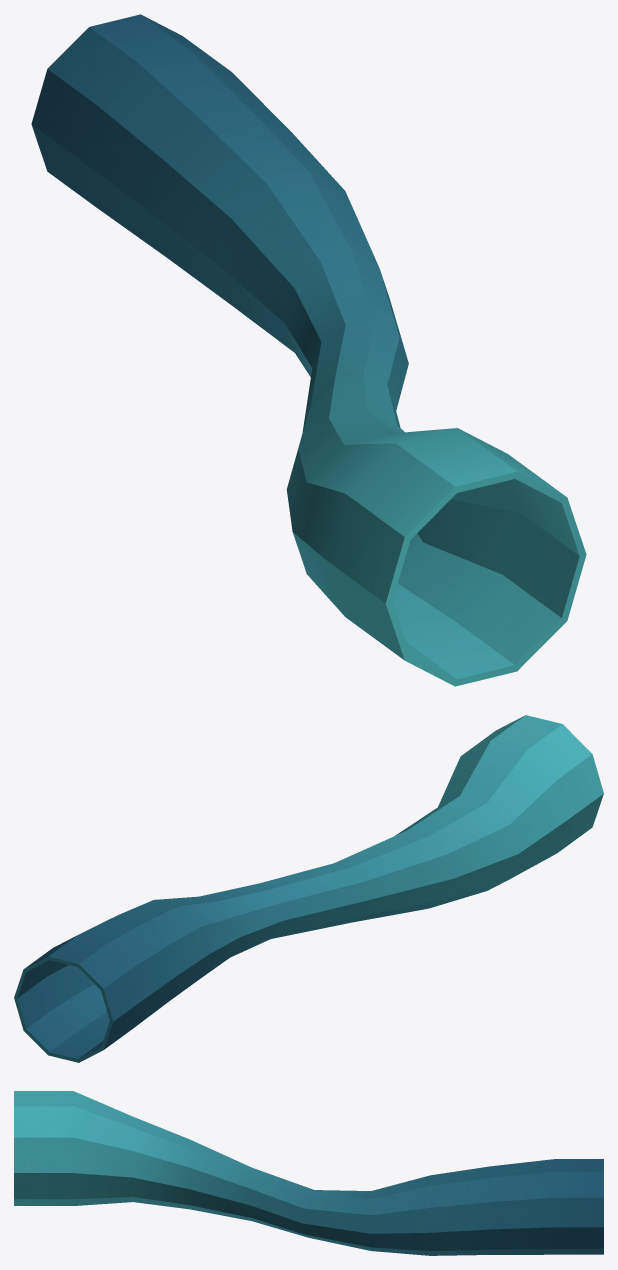
Rendered from pipe1.fbx.
The picture shows the model from 3 angles, top to bottom: view 1: azimuth 30°, elevation 25°; view 2: azimuth 150°, elevation 25°; view 3: azimuth 270°, elevation 25°; orthographic projection. The views are drawn at different scales.
Visible parts, largest first — view 1: pPipe1; view 2: pPipe1; view 3: pPipe1.
Boxes of the visible parts, x1,y1,x2,y2 form: pPipe1: (31,14,586,686); pPipe1: (14,715,603,1062); pPipe1: (14,1091,603,1255).
Bounding box in the file's own units: 2.93 × 1.39 × 7.44.
